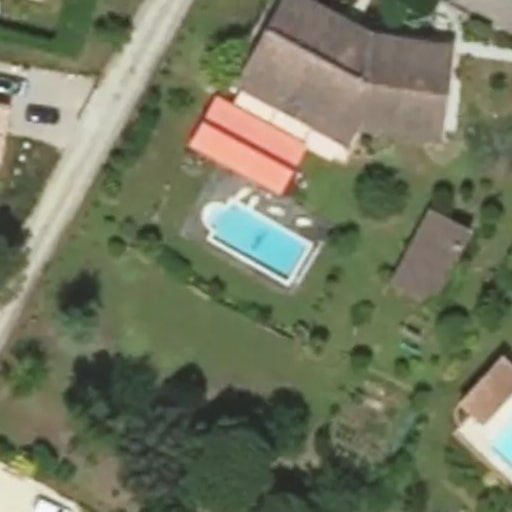pool: (202, 197, 310, 288)
